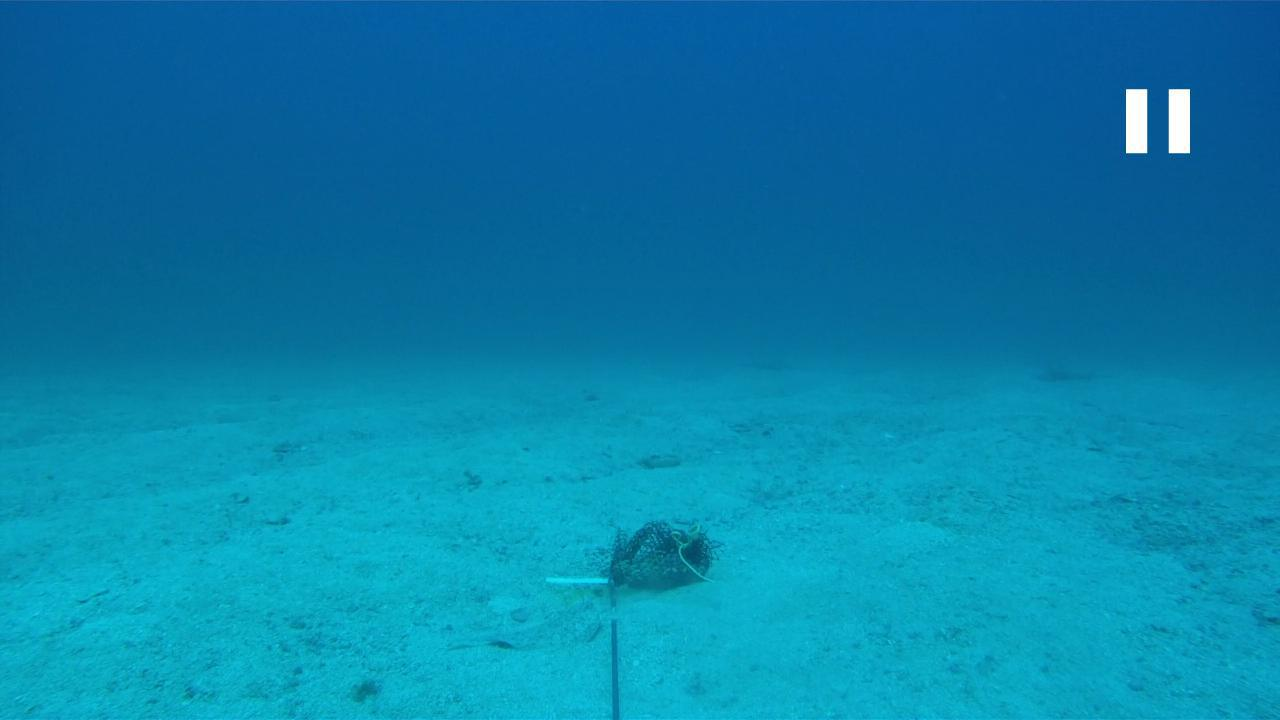bothus: (452, 596, 603, 656)
